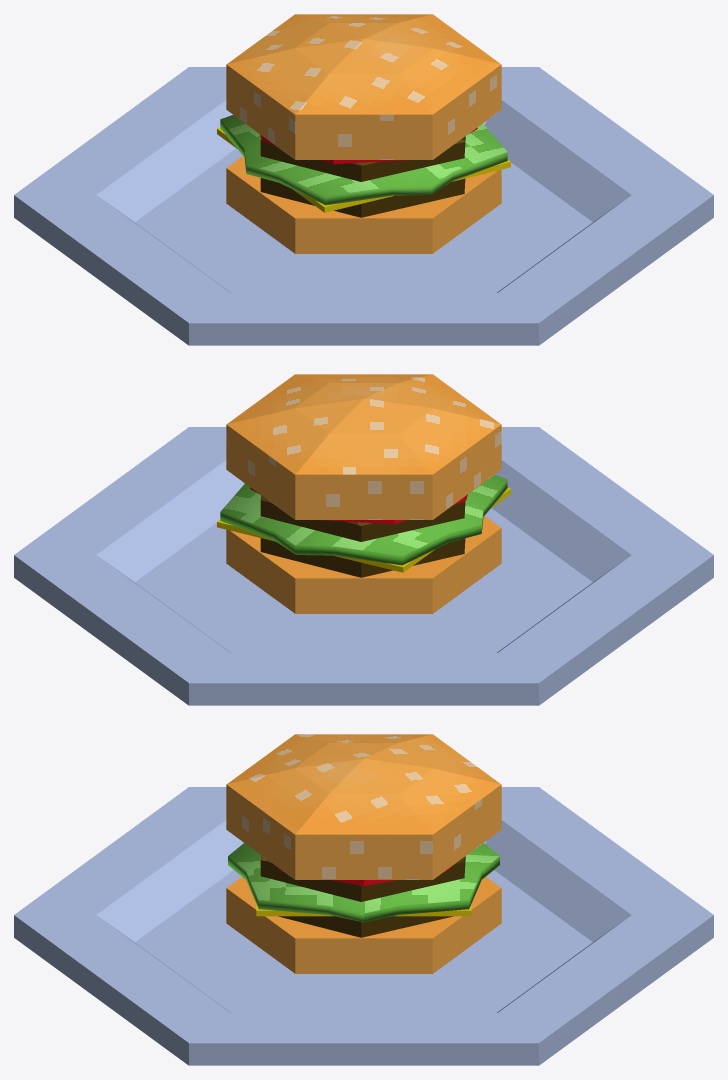
File: BurgerPlate.fbx
3 views of the same model, one above another, from view 1: azimuth 30°, elevation 25°; view 2: azimuth 150°, elevation 25°; view 3: azimuth 270°, elevation 25° (orthographic).
Visible parts, largest first — view 1: Plate, Burger; view 2: Plate, Burger; view 3: Plate, Burger.
Part boxes in pixels (x1=…): Plate: x1=14, y1=67, x2=713, y2=345; Burger: x1=217, y1=14, x2=510, y2=253; Plate: x1=14, y1=427, x2=713, y2=705; Burger: x1=217, y1=374, x2=510, y2=613; Plate: x1=14, y1=787, x2=713, y2=1065; Burger: x1=226, y1=734, x2=501, y2=973.
Size of the model in its own units: 48.5 by 17.42 by 56.
